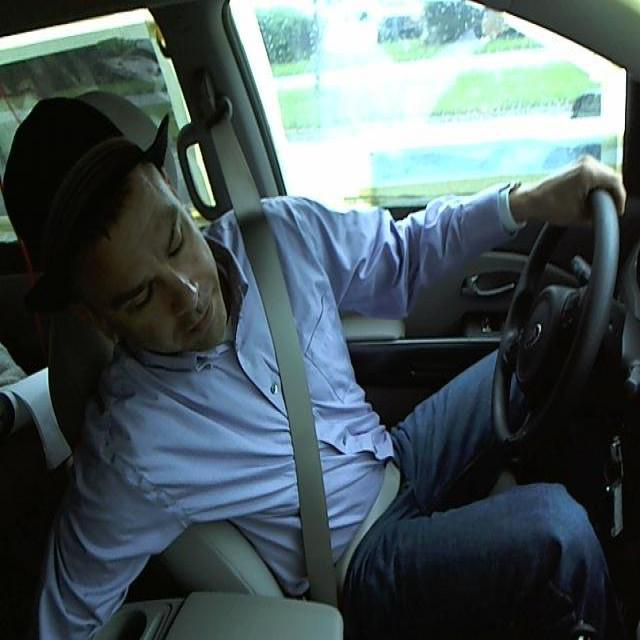seatbelt: (237, 232, 390, 575)
